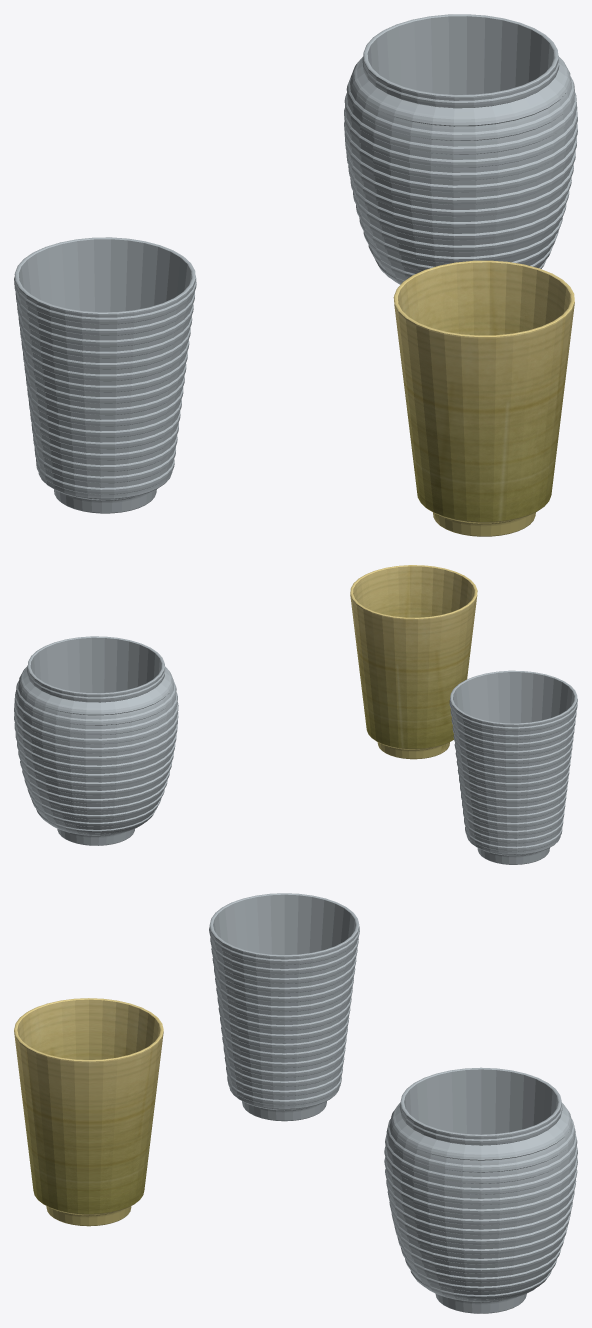
Rendered from complements4.obj.
3 renders of one model, top to bottom at view 1: azimuth 30°, elevation 25°; view 2: azimuth 150°, elevation 25°; view 3: azimuth 270°, elevation 25°, orthographic. The views are drawn at different scales.
Parts seen in each view (by area): view 1: vase3_Mesh.001, vase2_Mesh, vase_Mesh.002; view 2: vase3_Mesh.001, vase2_Mesh, vase_Mesh.002; view 3: vase3_Mesh.001, vase2_Mesh, vase_Mesh.002.
Part boxes in pixels (x1,y1,x2,y2): vase3_Mesh.001: (344,14,577,284); vase2_Mesh: (14,237,196,513); vase_Mesh.002: (393,260,574,536); vase3_Mesh.001: (14,636,178,845); vase2_Mesh: (449,670,577,864); vase_Mesh.002: (350,565,477,759); vase3_Mesh.001: (384,1067,577,1313); vase2_Mesh: (209,893,359,1121); vase_Mesh.002: (14,998,163,1226).
Bounding box in the file's own units: 6.01 × 2.05 × 5.43.
3 materials, 2 textured.
